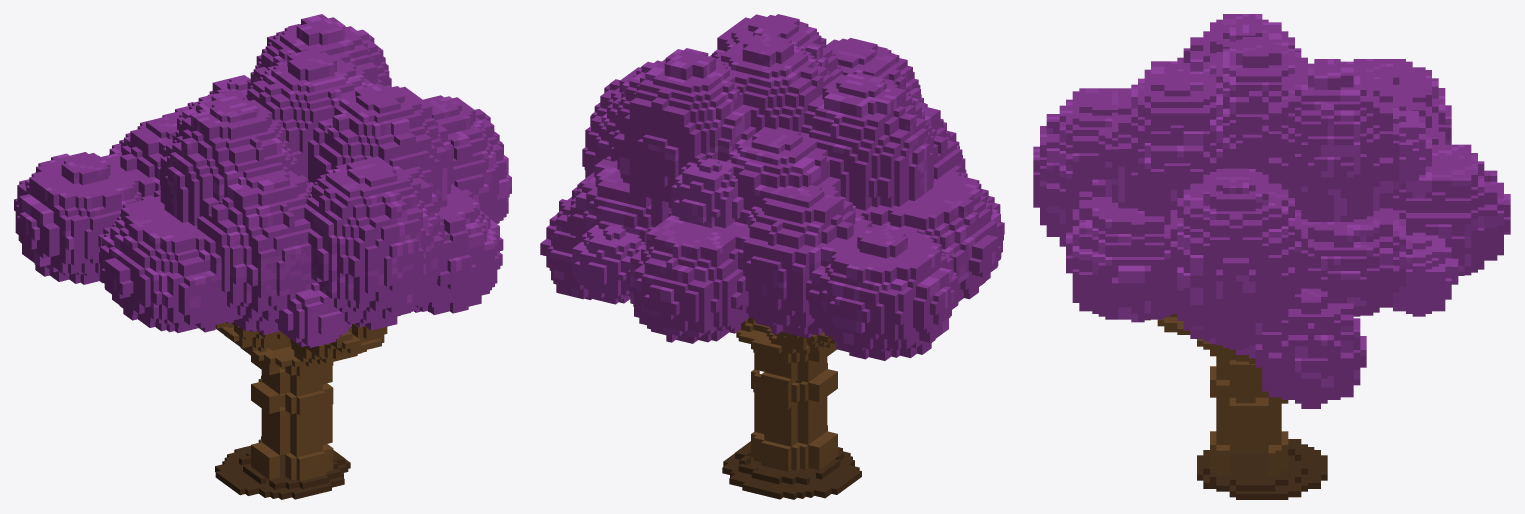
The model's file is Arbórea - Ipê roxo jovem.obj.
The picture shows the model from 3 angles, left to right: view 1: azimuth 30°, elevation 25°; view 2: azimuth 150°, elevation 25°; view 3: azimuth 270°, elevation 25°; orthographic projection. The views are drawn at different scales.
Bounding box in the file's own units: 7.8 × 7.4 × 7.3.
Materials: 1 (1 with a texture image).
